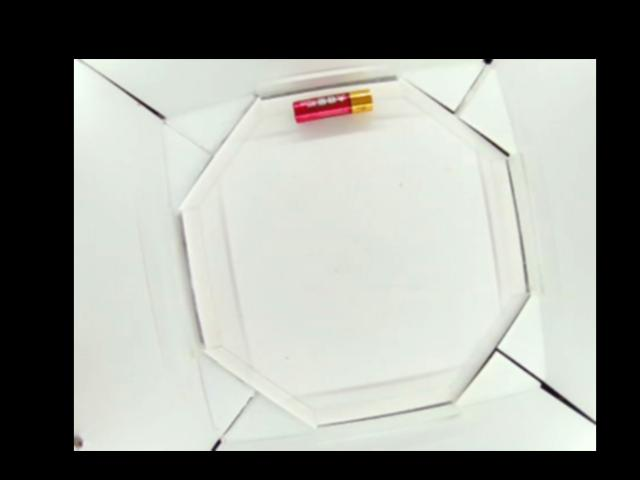Battery: (292, 89, 373, 121)
